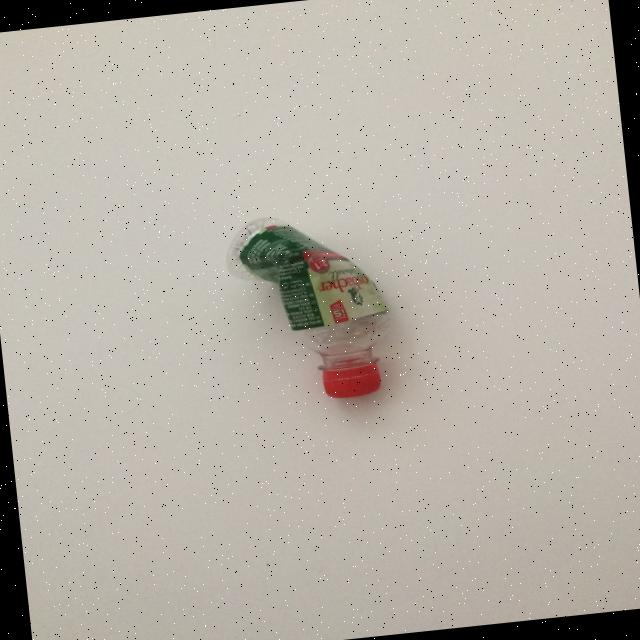plastic: (220, 204, 400, 408)
